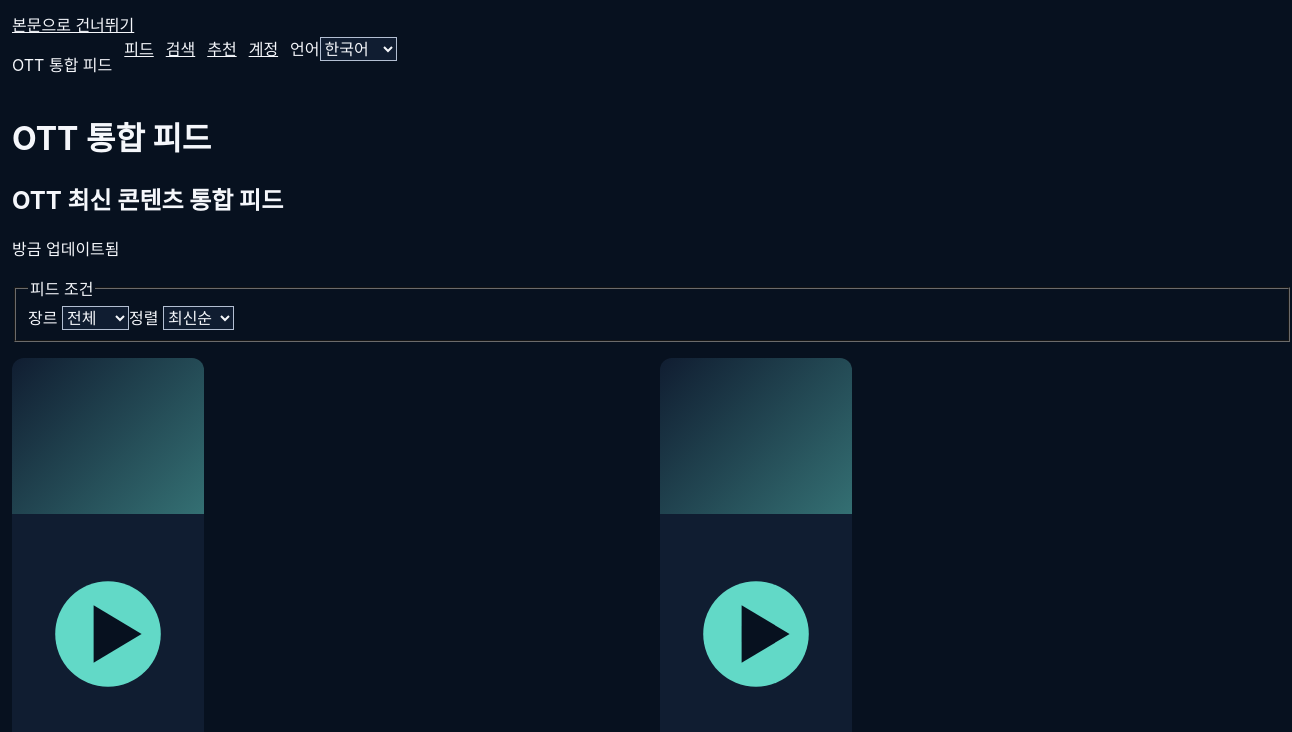
Test: changes locale, prefetches and navigates through the shell
The image size is (1292, 732).
Select "English" in the dropdown labelled "언어" at (358, 49), box [320,37,397,61]
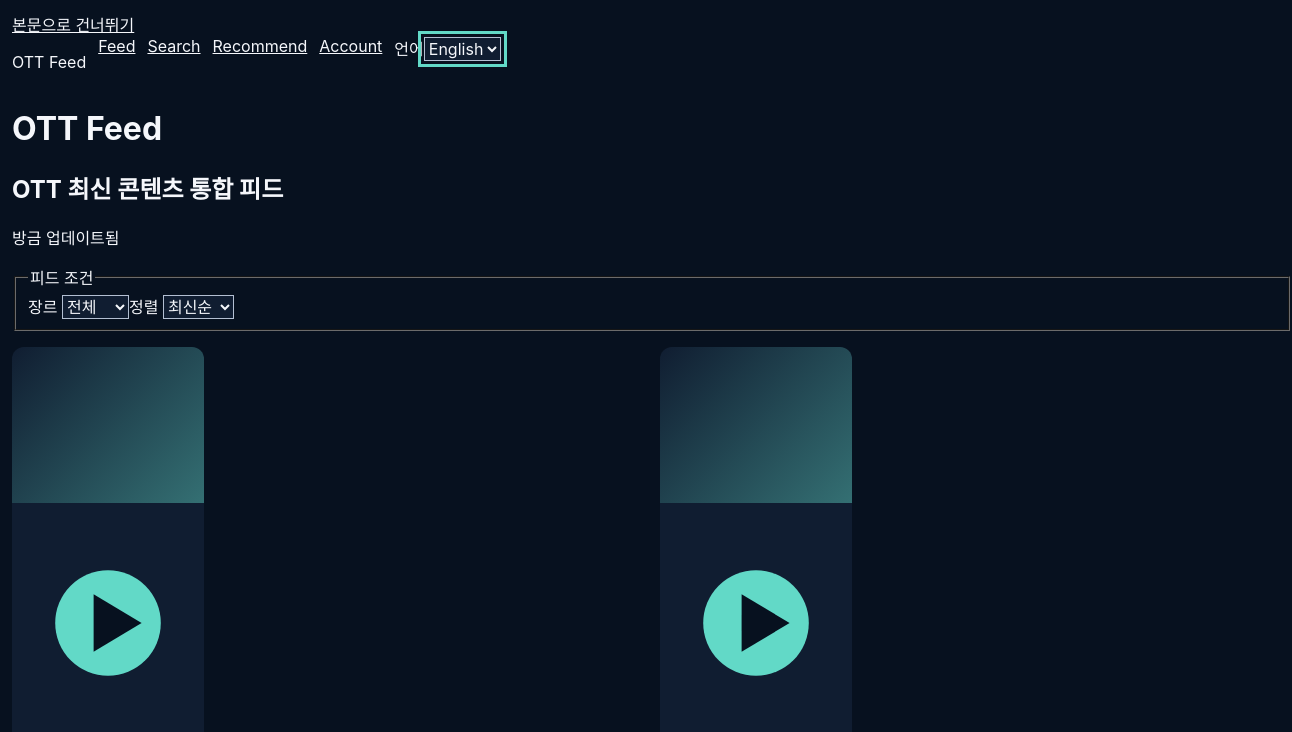
Click the link "Search" at (174, 46), box [148,36,201,56]
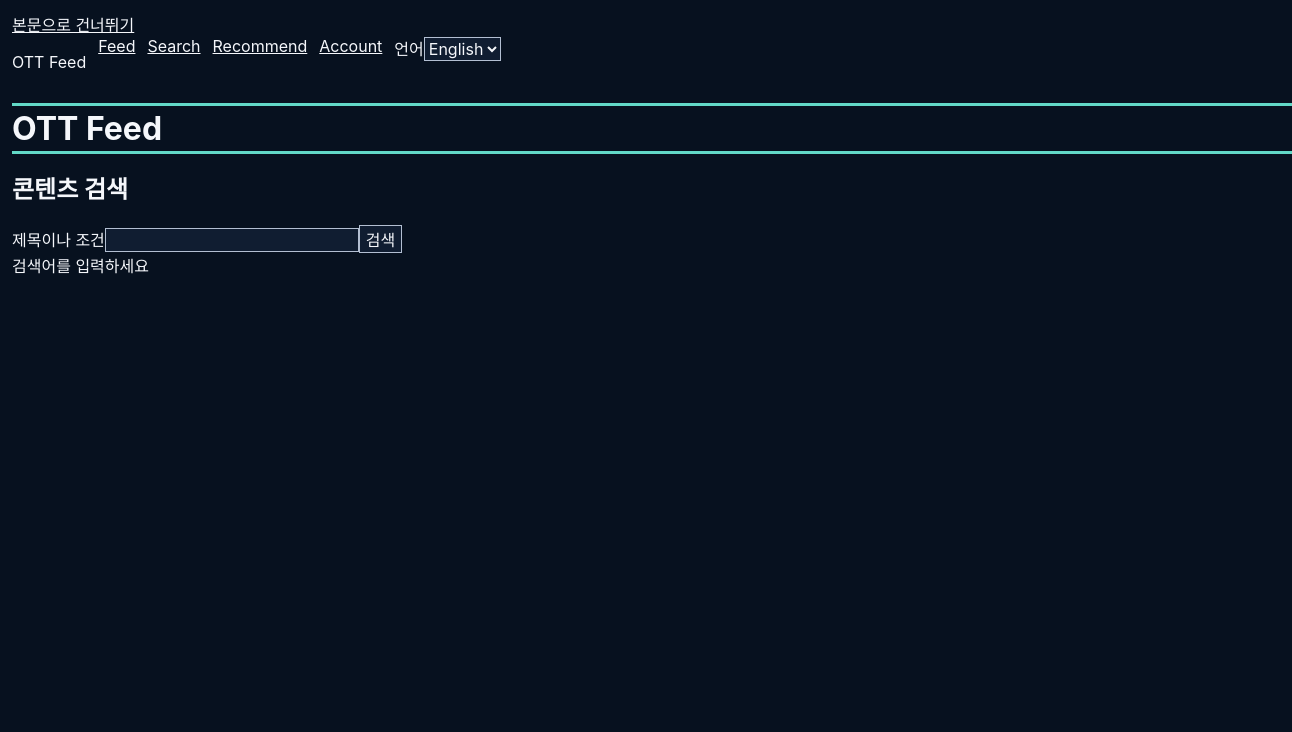
Now the message named "search results" is shown, box [12,256,149,276]
